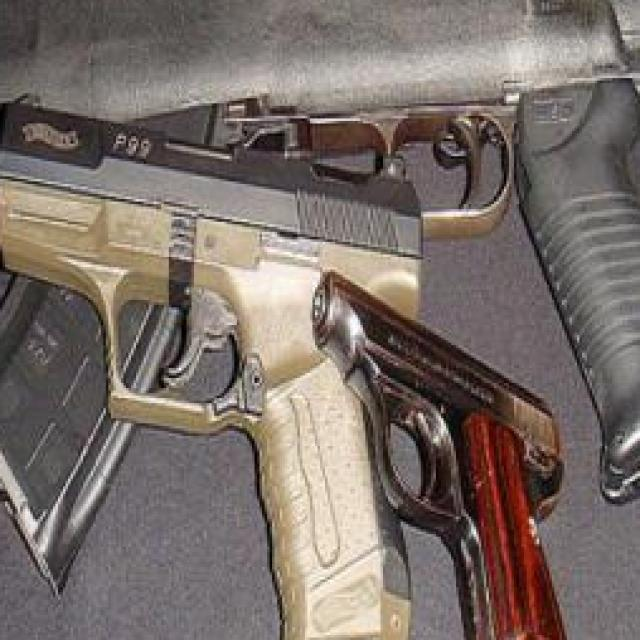pistol: (0, 85, 421, 640), (312, 267, 570, 640)
